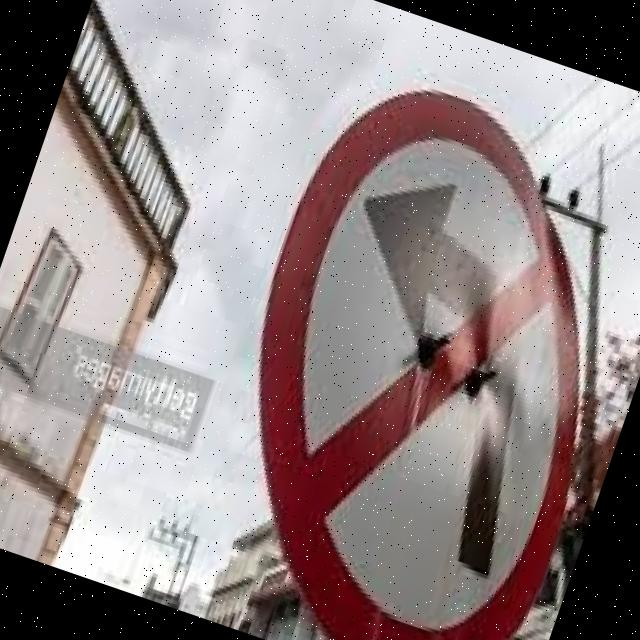do_not_turn_right: (158, 44, 640, 640)
